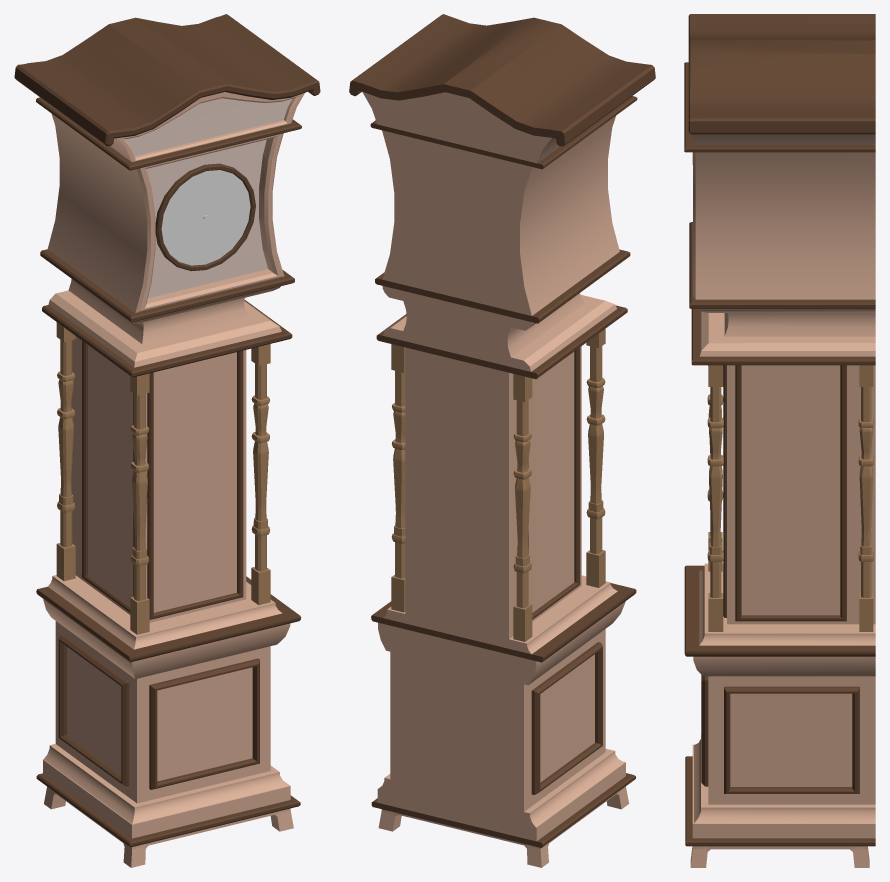
File: Grandfather Clock.fbx
3 renders of one model, left to right at view 1: azimuth 30°, elevation 25°; view 2: azimuth 150°, elevation 25°; view 3: azimuth 270°, elevation 25°, orthographic. The views are drawn at different scales.
Visible parts, largest first — view 1: polySurface44; view 2: polySurface44; view 3: polySurface44.
Part boxes in pixels (<box>): polySurface44: <box>14,14,320,867</box>; polySurface44: <box>349,14,655,867</box>; polySurface44: <box>684,14,875,867</box>.
Size of the model in its own units: 9.06 by 30.56 by 6.8.
